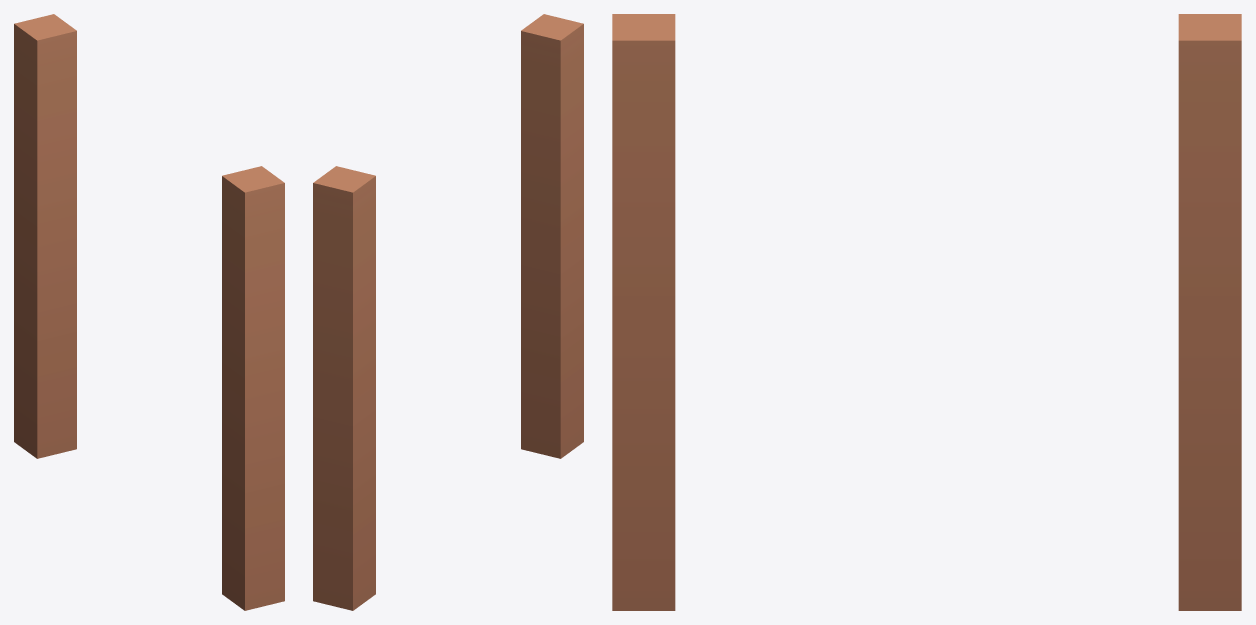
The model's file is poles.glb.
3 views of the same model, side by side, from view 1: azimuth 30°, elevation 25°; view 2: azimuth 150°, elevation 25°; view 3: azimuth 270°, elevation 25° (orthographic). The views are drawn at different scales.
Visible parts, largest first — view 1: poles; view 2: poles; view 3: poles.
Boxes of the visible parts, box(x1,y1,x2,y2) form: poles: box(14, 14, 284, 610); poles: box(313, 14, 583, 610); poles: box(612, 14, 1241, 610).
Bounding box in the file's own units: 0.1 × 1 × 1.
1 material, 1 textured.
